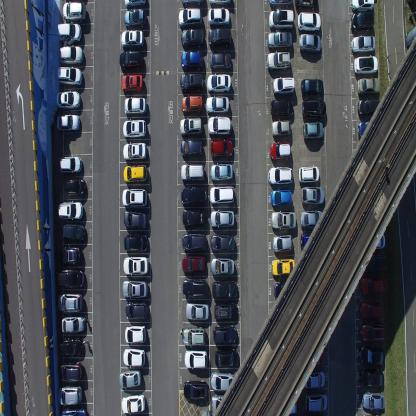car: (359, 254, 385, 276), (358, 344, 384, 366), (56, 384, 82, 406), (56, 22, 82, 44), (57, 66, 83, 88), (268, 8, 294, 30), (273, 393, 298, 415), (183, 276, 208, 298), (59, 360, 84, 382), (207, 115, 232, 137), (177, 6, 202, 28), (56, 245, 82, 266), (210, 370, 237, 390), (184, 347, 208, 369), (213, 322, 237, 344), (124, 231, 148, 253), (62, 1, 86, 23), (59, 44, 83, 66), (297, 11, 321, 33), (358, 367, 383, 388), (271, 209, 296, 230), (185, 301, 210, 322), (183, 379, 208, 400), (59, 336, 84, 357), (206, 72, 231, 93), (181, 186, 207, 206), (359, 323, 385, 343), (267, 166, 293, 186), (212, 280, 238, 300), (214, 347, 240, 367), (122, 279, 148, 299), (122, 187, 148, 207), (57, 292, 83, 312), (122, 163, 148, 183), (118, 50, 144, 70), (57, 269, 84, 288), (302, 346, 325, 368), (210, 138, 233, 160), (208, 27, 231, 49), (298, 34, 321, 56), (351, 10, 374, 32), (270, 257, 294, 278), (123, 209, 147, 230), (62, 222, 86, 243), (120, 72, 144, 93), (179, 116, 203, 137), (180, 30, 204, 51), (266, 50, 290, 71), (271, 75, 295, 96), (209, 184, 234, 204), (359, 232, 384, 252), (210, 256, 235, 276), (182, 232, 207, 252), (266, 30, 291, 50), (301, 99, 326, 119), (353, 54, 378, 74), (359, 278, 385, 297), (57, 201, 83, 220), (211, 393, 237, 412), (122, 256, 149, 274), (124, 7, 146, 29), (183, 206, 206, 227), (121, 28, 144, 49), (210, 208, 234, 228), (125, 300, 149, 320), (180, 138, 204, 158), (118, 369, 142, 389), (122, 118, 146, 138), (56, 90, 80, 110), (180, 72, 204, 92), (270, 98, 294, 118), (300, 77, 324, 97), (357, 97, 381, 117), (210, 233, 235, 252), (182, 255, 207, 274), (181, 326, 206, 345), (300, 186, 322, 207), (269, 141, 291, 162), (64, 176, 86, 197), (181, 93, 203, 114), (181, 163, 204, 183), (123, 346, 146, 366), (122, 394, 145, 414), (124, 95, 147, 115), (207, 7, 230, 27), (299, 209, 323, 228), (214, 302, 238, 321), (58, 155, 82, 174), (296, 166, 318, 186), (361, 390, 383, 410), (302, 121, 324, 141), (358, 76, 380, 96), (357, 122, 380, 141), (209, 51, 232, 70), (352, 34, 375, 53), (56, 113, 80, 131), (205, 95, 229, 113), (125, 324, 146, 344), (210, 164, 233, 182), (62, 315, 85, 333), (123, 142, 146, 160), (272, 233, 292, 253), (271, 119, 291, 139), (305, 392, 327, 410), (303, 370, 325, 388), (269, 189, 291, 207), (359, 302, 381, 320), (350, 0, 375, 11), (295, 0, 318, 10), (267, 0, 292, 9), (60, 408, 88, 416), (124, 0, 146, 8), (209, 0, 232, 6), (180, 0, 204, 5)
